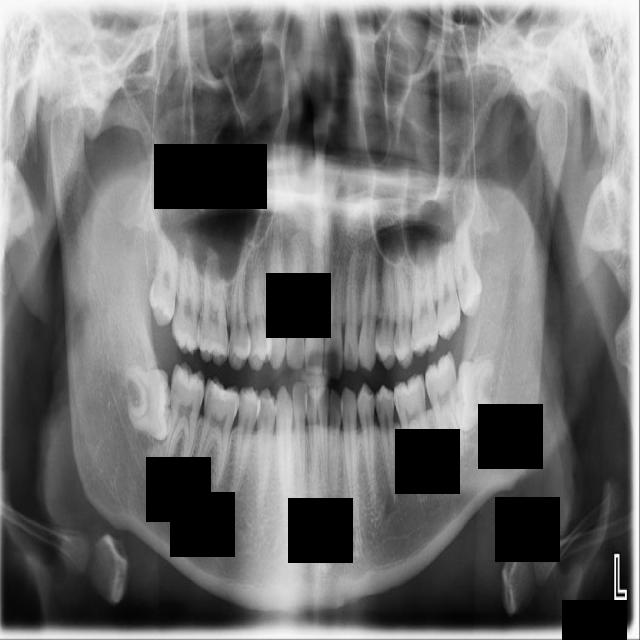3M ESPE Implant: (146, 233, 180, 328)
73: (590, 570, 594, 590)
BioHorizons Implant: (437, 225, 461, 340)
BioLife Implant: (446, 215, 487, 319)
Biomet 3i Implant: (454, 359, 494, 431)
Blue Sky Bio Implant: (422, 351, 465, 464)
Caries: (171, 240, 201, 356)
Implant: (162, 360, 208, 469)
Keystone Dental Implant: (124, 361, 176, 444)
